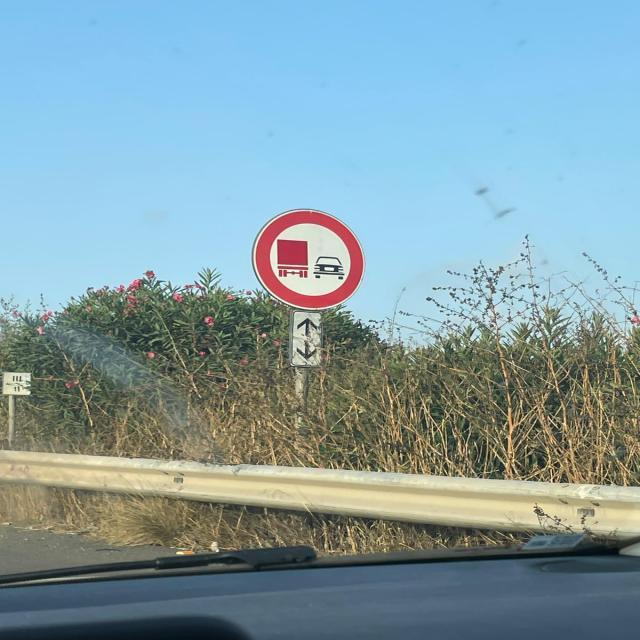forb_overtake_trucks: (251, 209, 367, 312)
